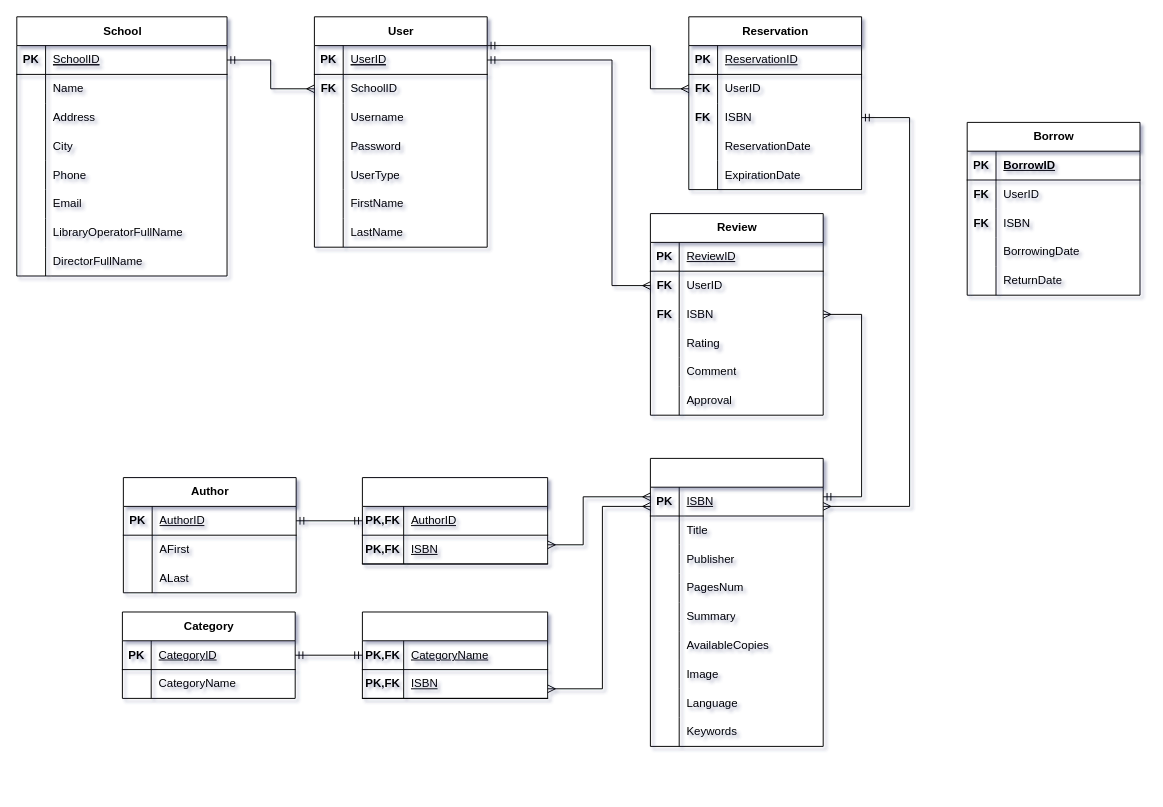
Image size: 1163x807. Some labels were removed from this diagram. Here are the shapes that lost their labels. From the top down, the box of each, then its label:
(361, 477, 548, 564): Written_by
(649, 457, 823, 746): Book
(361, 611, 548, 698): Belongs_to
